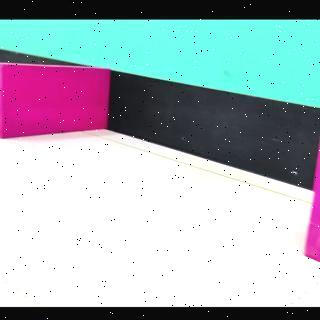xparking: (1, 69, 106, 141), (314, 186, 318, 260)
